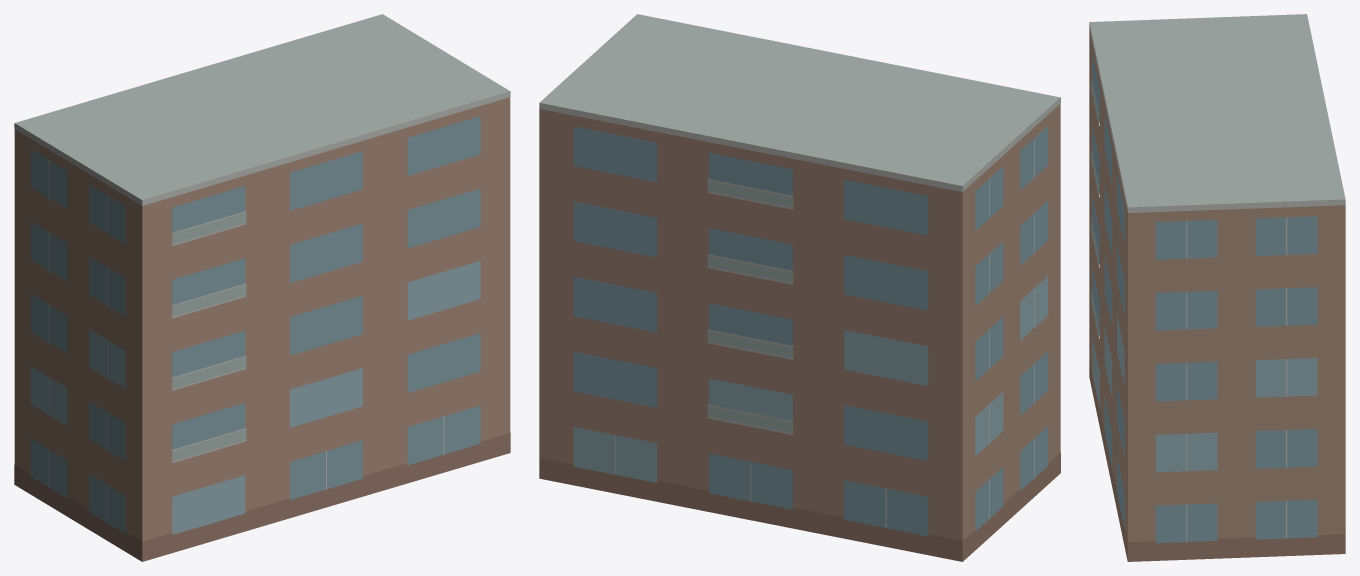
Rendered from survey-upis-33001843.glb.
3 views of the same model, side by side, from view 1: azimuth 30°, elevation 25°; view 2: azimuth 150°, elevation 25°; view 3: azimuth 270°, elevation 25° (orthographic). The views are drawn at different scales.
Parts seen in each view (by area): view 1: survey-upis-33001843.tmp; view 2: survey-upis-33001843.tmp; view 3: survey-upis-33001843.tmp.
Boxes of the visible parts, x1,y1,x2,y2 form: survey-upis-33001843.tmp: (14,14,510,561); survey-upis-33001843.tmp: (539,14,1060,561); survey-upis-33001843.tmp: (1089,14,1345,561).
Size of the model in its own units: 17.86 by 15.25 by 10.01.
